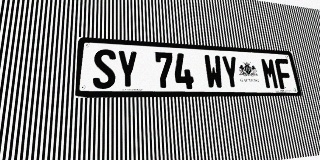4: (173, 53, 194, 89)
7: (154, 52, 175, 89)
F: (274, 58, 294, 89)
M: (260, 58, 280, 89)
S: (93, 49, 116, 89)
W: (203, 54, 224, 89)
Y: (117, 50, 139, 89), (220, 55, 241, 89)
